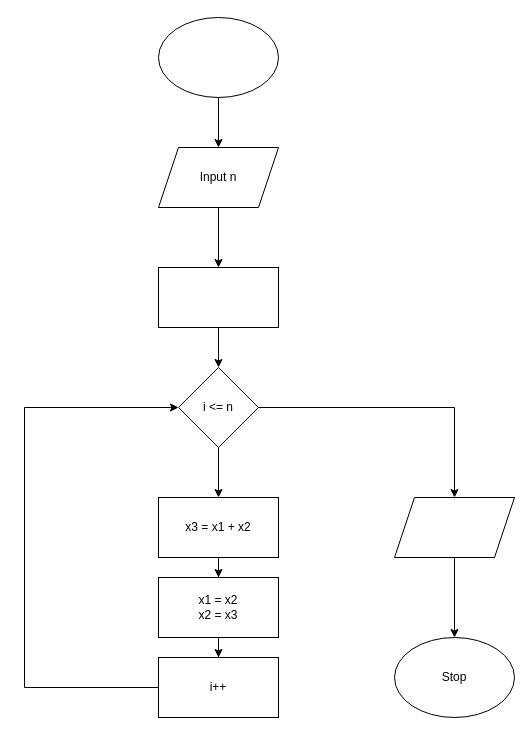
This 532x735 diagram has some shape labels left out. The centre of each missing label's shape, as x and y in pixels:
"Output x3" goes at (454,527).
"Start" goes at (218,57).
"x1=0 x2=1 i=1" goes at (218,297).
